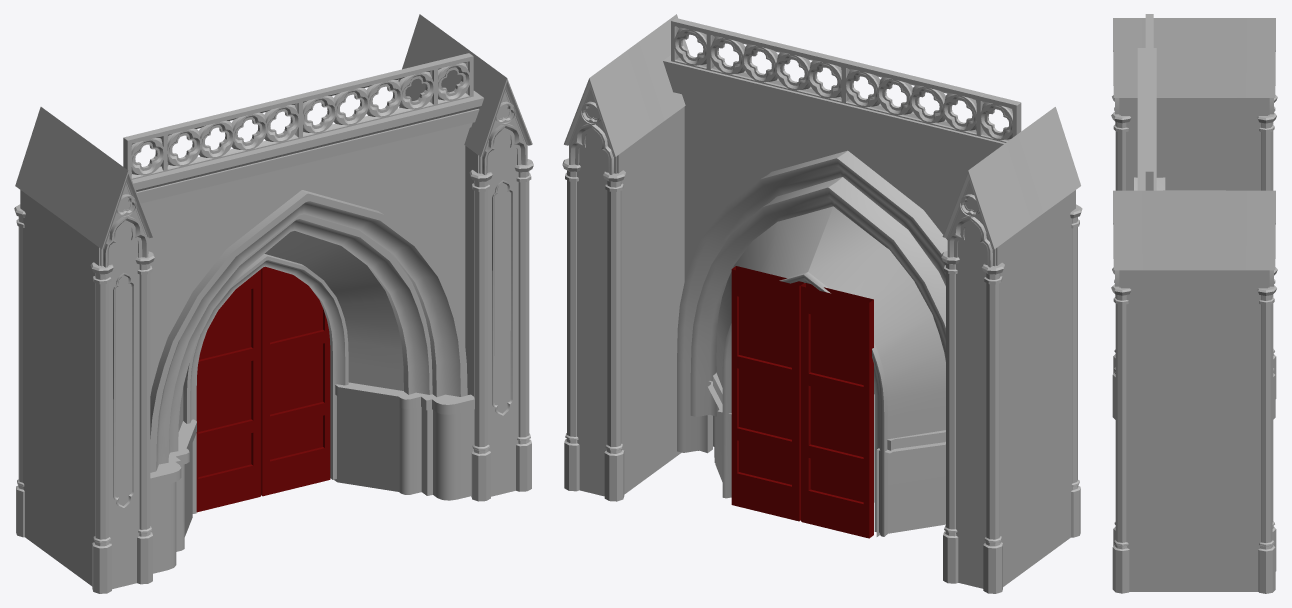
The model's file is entrance_005.glb.
3 views of the same model, side by side, from view 1: azimuth 30°, elevation 25°; view 2: azimuth 150°, elevation 25°; view 3: azimuth 270°, elevation 25° (orthographic). The views are drawn at different scales.
Visible parts, largest first — view 1: entrance_005; view 2: entrance_005; view 3: entrance_005.
Part boxes in pixels (x1,y1,x2,y2): entrance_005: (14,14,533,593); entrance_005: (562,14,1082,593); entrance_005: (1111,14,1277,593).
Size of the model in its own units: 2.22 by 2.07 by 0.7783.
